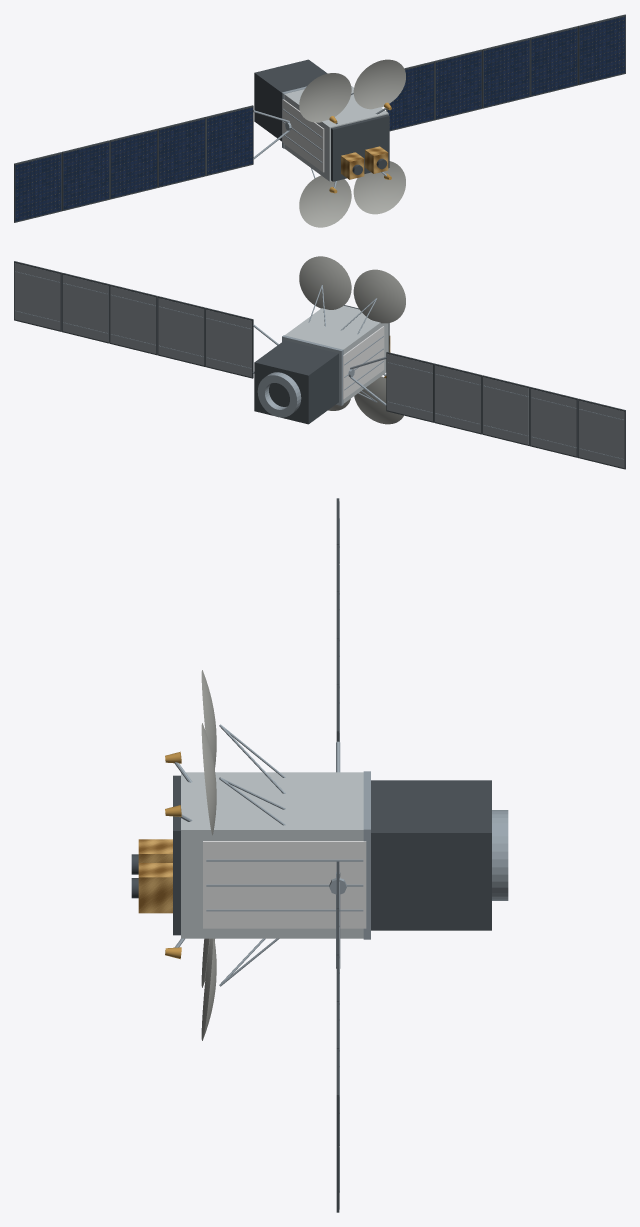
Rendered from ref-a2100axs-35755.glb.
The picture shows the model from 3 angles, top to bottom: view 1: azimuth 30°, elevation 25°; view 2: azimuth 150°, elevation 25°; view 3: azimuth 270°, elevation 25°; orthographic projection. The views are drawn at different scales.
Parts seen in each view (by area): view 1: Solar cell panel (×10), Communications reflector (×4), Solar panel frame (×9), Service module, Earth-facing deck, Radiator face, Payload module, Communications feed assembly (×2); view 2: Rear array substrate (×10), Communications reflector (×3), Service module, Solar panel frame (×10), Payload module, Radiator face, Launch adapter ring, Module interface; view 3: Service module, Payload module, Radiator face, Communications feed assembly, Launch adapter ring, Earth-facing deck, Module interface, Communications reflector.
Boxes of the visible parts, x1,y1,x2,y2 form: Solar cell panel (×10): (15, 16, 625, 221); Communications reflector (×4): (299, 59, 405, 227); Solar panel frame (×9): (14, 14, 625, 222); Service module: (254, 59, 327, 141); Earth-facing deck: (331, 114, 389, 181); Radiator face: (282, 99, 324, 172); Payload module: (284, 86, 388, 181); Communications feed assembly (×2): (341, 146, 388, 179); Rear array substrate (×10): (14, 263, 624, 468); Communications reflector (×3): (299, 256, 405, 424); Service module: (254, 340, 338, 424); Solar panel frame (×10): (14, 261, 625, 469); Payload module: (285, 305, 388, 403); Radiator face: (343, 326, 384, 399); Launch adapter ring: (257, 372, 301, 417); Module interface: (282, 335, 343, 405); Service module: (371, 780, 491, 930); Payload module: (181, 772, 363, 938); Radiator face: (203, 841, 366, 928); Communications feed assembly: (138, 863, 172, 913); Launch adapter ring: (492, 810, 508, 900); Earth-facing deck: (173, 775, 180, 935); Module interface: (363, 771, 370, 939); Communications reflector: (201, 723, 216, 835).
Bounding box in the file's own units: 26.98 × 6.46 × 7.2.
9 materials, 2 textured.
